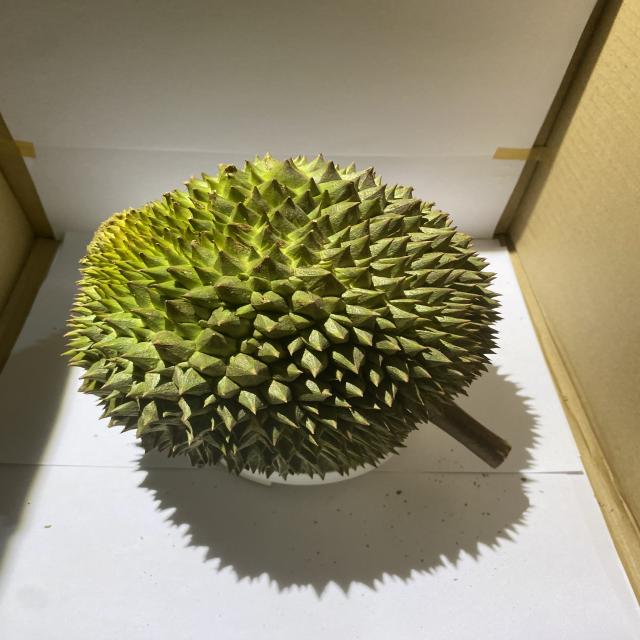immature: (61, 152, 506, 478)
